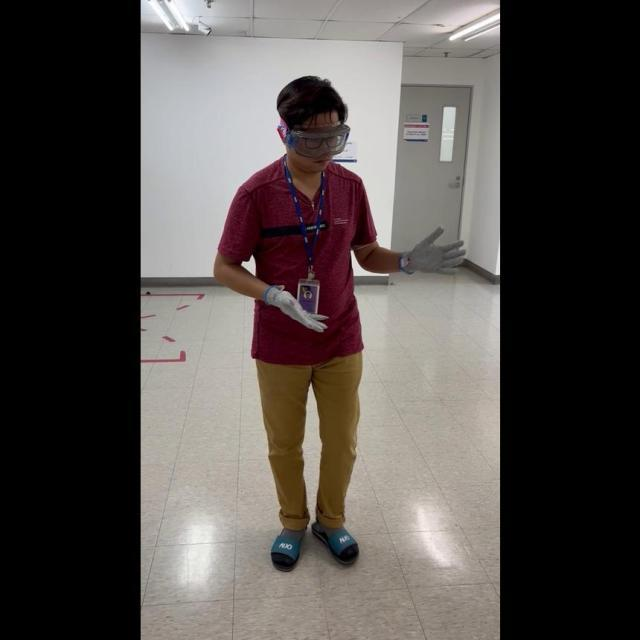gloved_hand: (397, 221, 464, 278), (260, 283, 326, 333)
